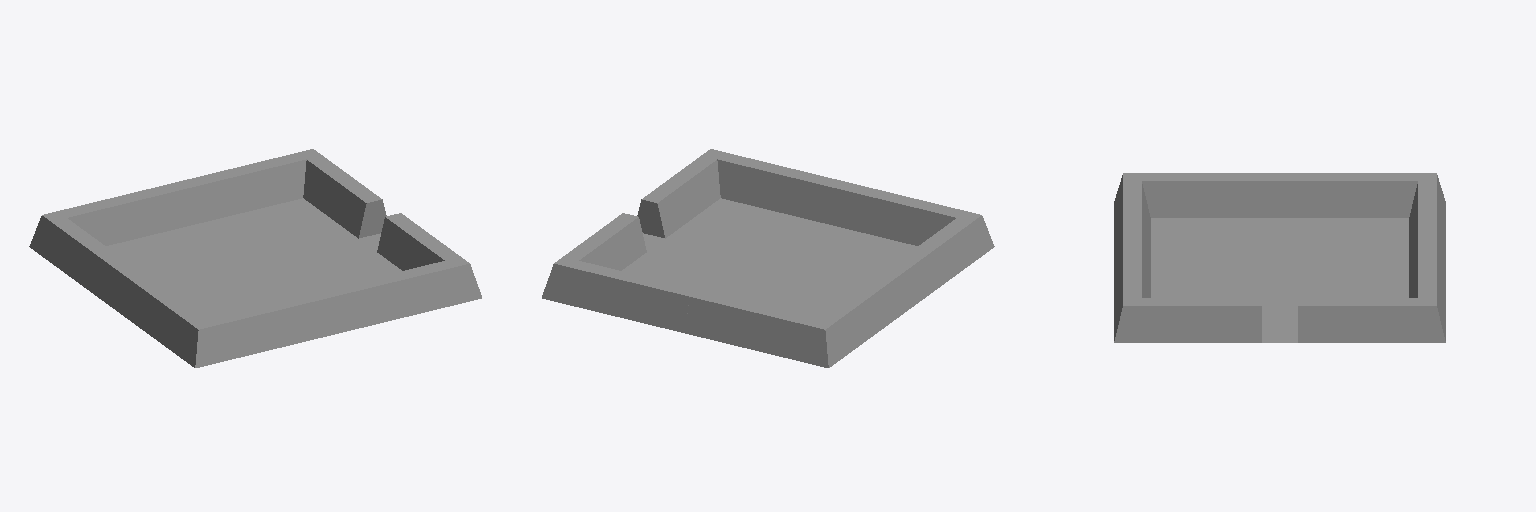
Rendered from sala_4.obj.
3 renders of one model, left to right at view 1: azimuth 30°, elevation 25°; view 2: azimuth 150°, elevation 25°; view 3: azimuth 270°, elevation 25°, orthographic.
Parts seen in each view (by area): view 1: Ground_Plane.001, Wall.004_Cube.015, Wall.006_Cube.016, Wall.001_Cube.012, Wall.003_Cube.010, Wall.002_Cube.014, Wall.005_Cube.002, Wall.000_Cube.011, Wall.007_Cube.017; view 2: Ground_Plane.001, Wall.003_Cube.010, Wall.001_Cube.012, Wall.006_Cube.016, Wall.004_Cube.015, Wall.005_Cube.002, Wall.002_Cube.014, Wall.007_Cube.017, Wall.000_Cube.011; view 3: Ground_Plane.001, Wall.000_Cube.011, Wall.007_Cube.017, Wall.005_Cube.002, Wall.002_Cube.014, Wall.003_Cube.010, Wall.004_Cube.015, Wall.001_Cube.012, Wall.006_Cube.016, Plane.003_Plane.005.
Part boxes in pixels (left/top/right/bottom): Ground_Plane.001: left=106, top=198, right=401, bottom=318; Wall.004_Cube.015: left=195, top=290, right=338, bottom=367; Wall.006_Cube.016: left=326, top=261, right=481, bottom=332; Wall.001_Cube.012: left=178, top=149, right=312, bottom=224; Wall.003_Cube.010: left=44, top=182, right=190, bottom=245; Wall.002_Cube.014: left=29, top=215, right=135, bottom=306; Wall.005_Cube.002: left=112, top=269, right=204, bottom=367; Wall.000_Cube.011: left=303, top=149, right=386, bottom=238; Wall.007_Cube.017: left=377, top=213, right=468, bottom=270; Ground_Plane.001: left=622, top=198, right=917, bottom=318; Wall.003_Cube.010: left=685, top=290, right=828, bottom=367; Wall.001_Cube.012: left=542, top=261, right=697, bottom=332; Wall.006_Cube.016: left=711, top=149, right=845, bottom=224; Wall.004_Cube.015: left=833, top=182, right=979, bottom=245; Wall.005_Cube.002: left=888, top=215, right=994, bottom=306; Wall.002_Cube.014: left=819, top=269, right=911, bottom=367; Wall.007_Cube.017: left=637, top=149, right=720, bottom=238; Wall.000_Cube.011: left=555, top=213, right=646, bottom=270; Ground_Plane.001: left=1151, top=218, right=1408, bottom=317; Wall.000_Cube.011: left=1298, top=298, right=1445, bottom=342; Wall.007_Cube.017: left=1114, top=298, right=1261, bottom=342; Wall.005_Cube.002: left=1124, top=173, right=1279, bottom=217; Wall.002_Cube.014: left=1280, top=173, right=1435, bottom=217; Wall.003_Cube.010: left=1409, top=173, right=1445, bottom=270; Wall.004_Cube.015: left=1114, top=173, right=1150, bottom=270; Wall.001_Cube.012: left=1409, top=239, right=1445, bottom=340; Wall.006_Cube.016: left=1114, top=239, right=1150, bottom=340; Plane.003_Plane.005: left=1262, top=318, right=1297, bottom=342.
Size of the model in its own units: 18 by 2 by 18.